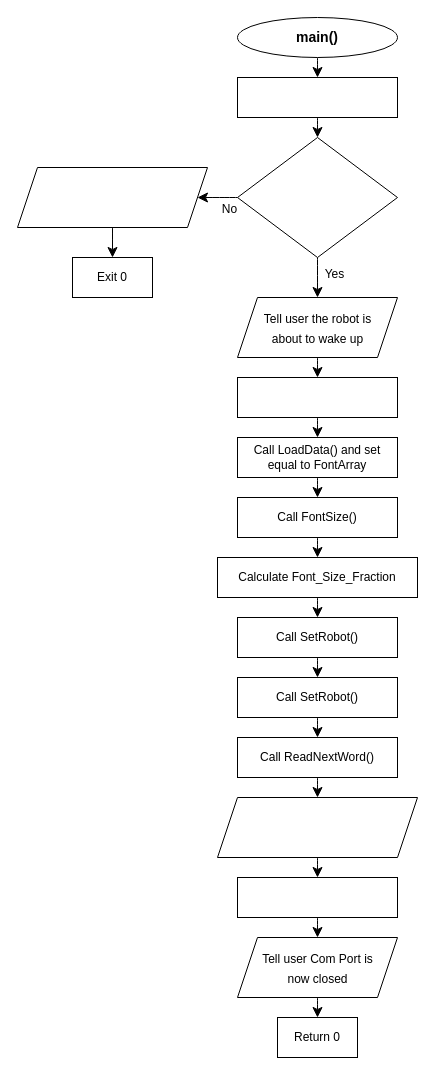
The diagram is 435 pixels wide and 1075 high, and some of its shapes have lost their labels. The centre of each missing label's shape, as x and y in pixels:
"Call CloseRS232Port()" goes at point (317, 897).
"Call WaitForDollar()" goes at point (317, 397).
"Create character buffer" goes at point (317, 97).
"Is CanRS232- Port BeOpened () equal 1?" goes at point (317, 197).
"Tell the user all the GCode has been sent to robot" goes at point (317, 827).
"Tell user that the COM port couldn't be opened" goes at point (112, 197).
